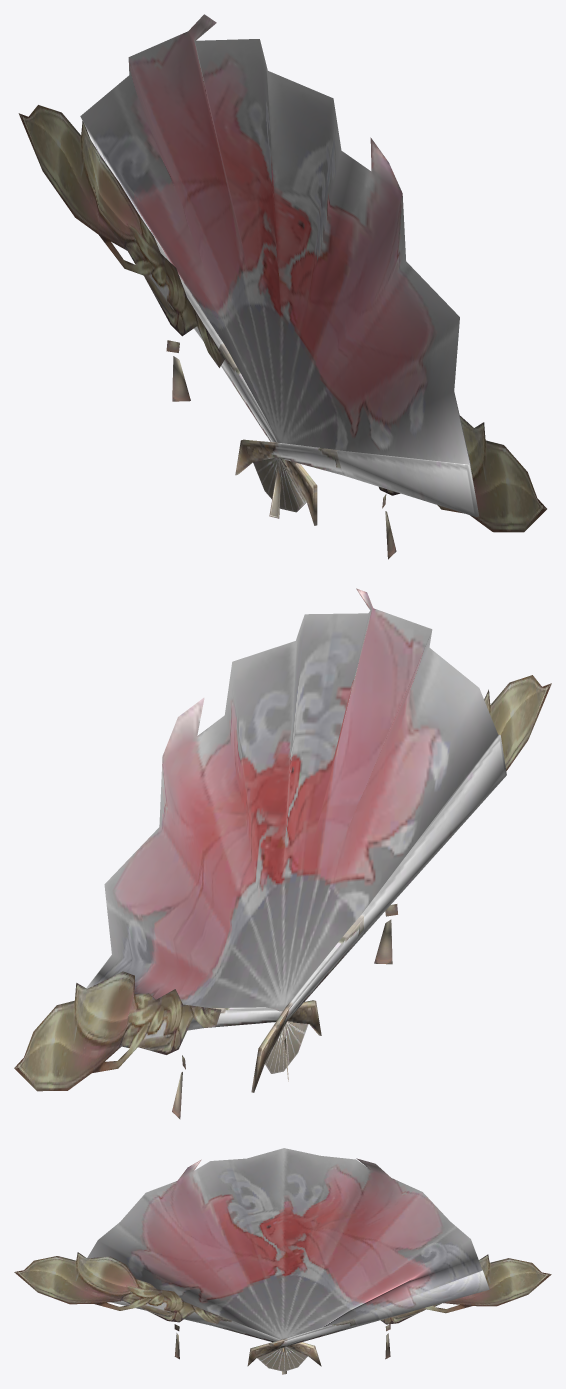
Rendered from NiShangShan.FBX.
The picture shows the model from 3 angles, top to bottom: view 1: azimuth 30°, elevation 25°; view 2: azimuth 150°, elevation 25°; view 3: azimuth 270°, elevation 25°; orthographic projection. The views are drawn at different scales.
Parts seen in each view (by area): view 1: weapon_005; view 2: weapon_005; view 3: weapon_005.
Part boxes in pixels (left/top/right/bottom): weapon_005: left=18, top=14, right=546, bottom=559; weapon_005: left=14, top=588, right=551, bottom=1119; weapon_005: left=14, top=1148, right=551, bottom=1374.
Size of the model in its own units: 2.52 by 33 by 71.66.
Materials: 1 (1 with a texture image).
